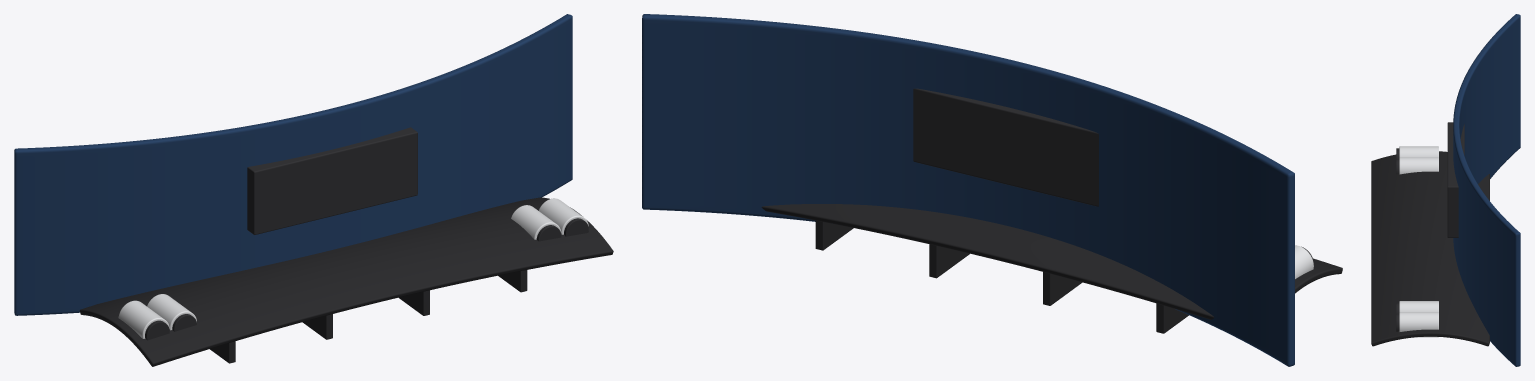
File: rear_bumper.glb
The picture shows the model from 3 angles, left to right: view 1: azimuth 30°, elevation 25°; view 2: azimuth 150°, elevation 25°; view 3: azimuth 270°, elevation 25°; orthographic projection. The views are drawn at different scales.
Parts seen in each view (by area): view 1: BODY_BUMPER_REAR, REAR_BUMPER_DIFFUSER_TRAY, REAR_LICENSE_WELL, EXHAUST_OUTER_-0.69, EXHAUST_OUTER_0.6, EXHAUST_OUTER_0.69, EXHAUST_OUTER_-0.6, REAR_DIFFUSER_STRAKE_0.16; view 2: BODY_BUMPER_REAR, REAR_LICENSE_WELL, REAR_BUMPER_DIFFUSER_TRAY, REAR_DIFFUSER_STRAKE_0.16, REAR_DIFFUSER_STRAKE_-0.16, REAR_DIFFUSER_STRAKE_0.48, REAR_DIFFUSER_STRAKE_-0.48; view 3: BODY_BUMPER_REAR, REAR_BUMPER_DIFFUSER_TRAY, REAR_LICENSE_WELL, EXHAUST_OUTER_0.69, EXHAUST_OUTER_-0.6, EXHAUST_OUTER_-0.69, EXHAUST_OUTER_0.6.
Boxes of the visible parts, <box> form: BODY_BUMPER_REAR: <box>14,14,572,315</box>; REAR_BUMPER_DIFFUSER_TRAY: <box>79,197,613,366</box>; REAR_LICENSE_WELL: <box>247,127,417,234</box>; EXHAUST_OUTER_-0.69: <box>118,300,169,338</box>; EXHAUST_OUTER_0.6: <box>511,205,561,239</box>; EXHAUST_OUTER_0.69: <box>538,198,588,234</box>; EXHAUST_OUTER_-0.6: <box>147,294,196,330</box>; REAR_DIFFUSER_STRAKE_0.16: <box>399,290,429,315</box>; BODY_BUMPER_REAR: <box>642,14,1294,366</box>; REAR_LICENSE_WELL: <box>913,88,1098,206</box>; REAR_BUMPER_DIFFUSER_TRAY: <box>761,204,1342,319</box>; REAR_DIFFUSER_STRAKE_0.16: <box>929,244,969,278</box>; REAR_DIFFUSER_STRAKE_-0.16: <box>1043,272,1082,305</box>; REAR_DIFFUSER_STRAKE_0.48: <box>815,220,853,250</box>; REAR_DIFFUSER_STRAKE_-0.48: <box>1156,303,1188,333</box>; BODY_BUMPER_REAR: <box>1453,14,1520,366</box>; REAR_BUMPER_DIFFUSER_TRAY: <box>1371,151,1489,346</box>; REAR_LICENSE_WELL: <box>1447,122,1464,237</box>; EXHAUST_OUTER_0.69: <box>1399,312,1438,337</box>; EXHAUST_OUTER_-0.6: <box>1399,157,1438,174</box>; EXHAUST_OUTER_-0.69: <box>1399,146,1438,157</box>; EXHAUST_OUTER_0.6: <box>1399,301,1438,311</box>.
Bounding box in the file's own units: 1.84 × 0.575 × 0.5274.
